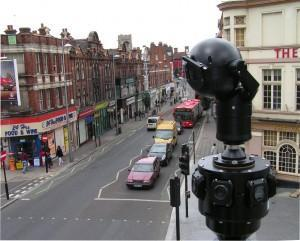Monitor: (167, 25, 267, 159)
